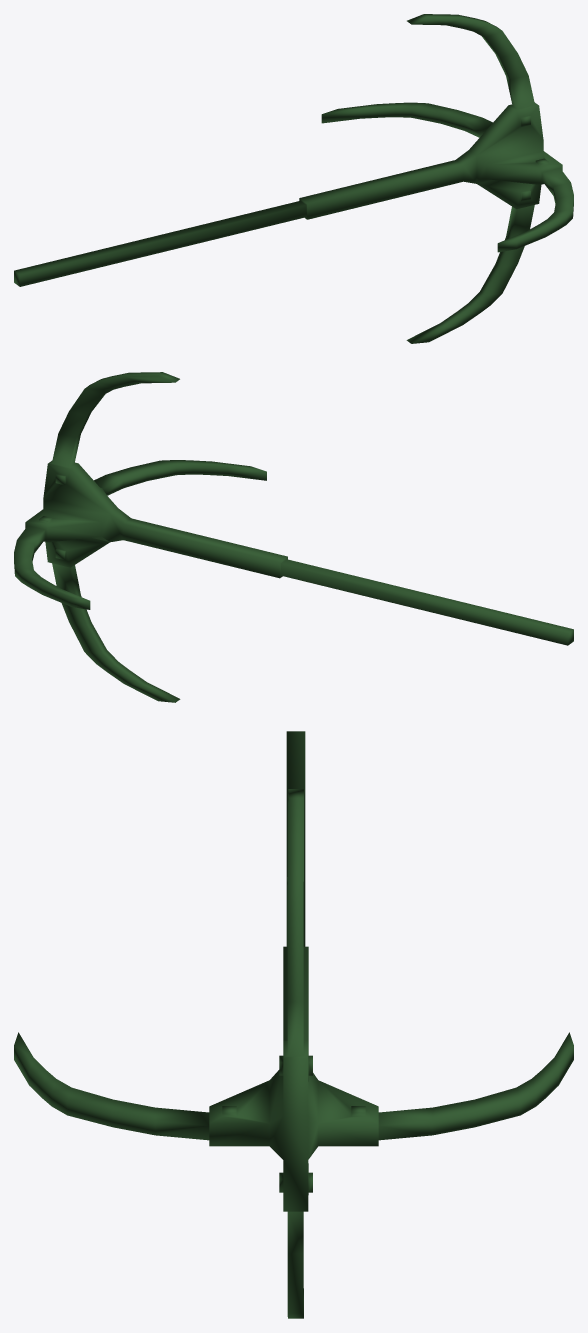
File: hook.fbx
3 views of the same model, one above another, from view 1: azimuth 30°, elevation 25°; view 2: azimuth 150°, elevation 25°; view 3: azimuth 270°, elevation 25° (orthographic). The views are drawn at different scales.
Visible parts, largest first — view 1: Cube.001; view 2: Cube.001; view 3: Cube.001.
Boxes of the visible parts, x1=… form: Cube.001: x1=14, y1=14, x2=573, y2=343; Cube.001: x1=14, y1=372, x2=573, y2=702; Cube.001: x1=14, y1=731, x2=573, y2=1318.
Size of the model in its own units: 61.27 by 36.37 by 36.37.
